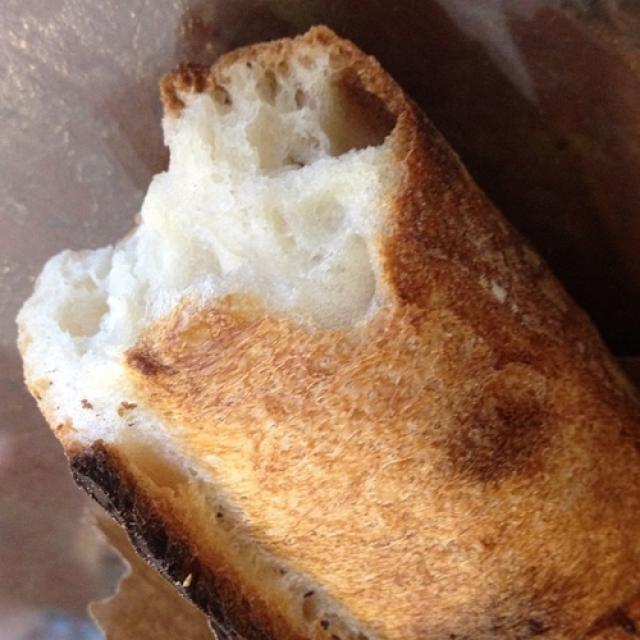Bread: (8, 11, 630, 633)
